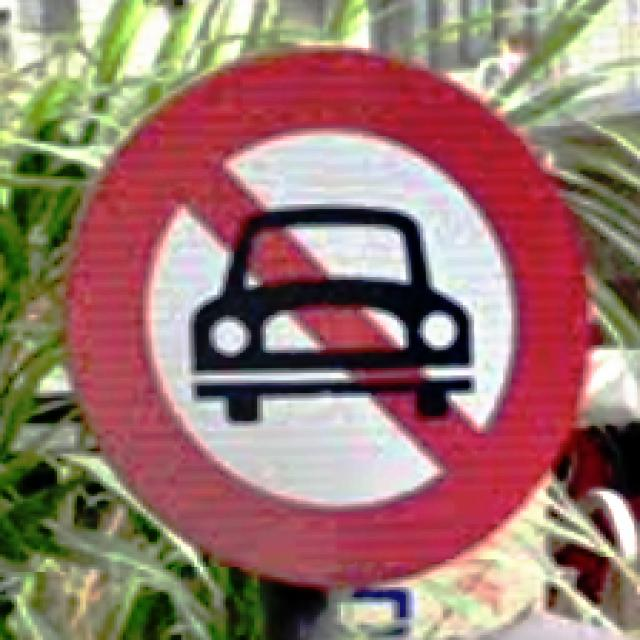nocar: (63, 45, 597, 590)
